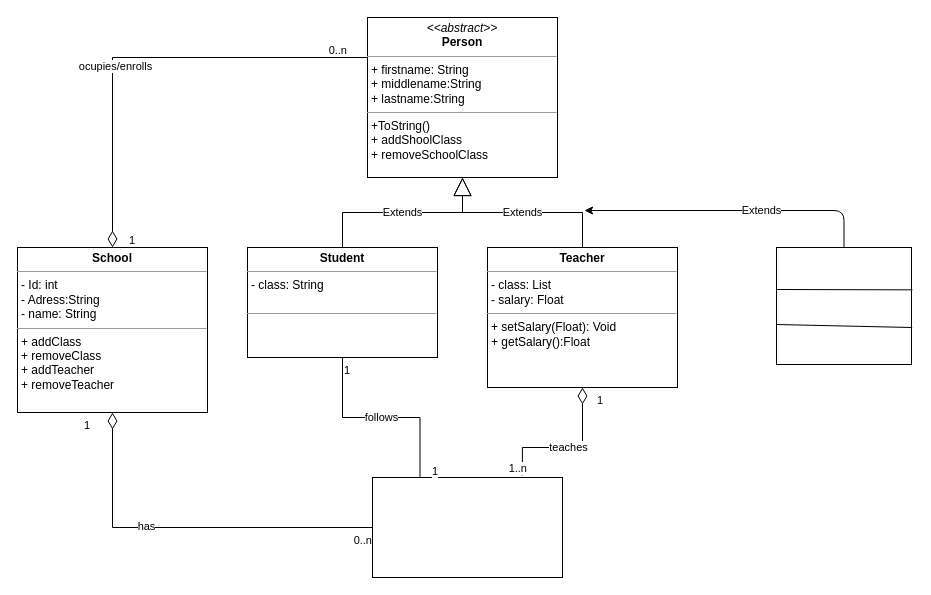
This 931x595 diagram has some shape labels left out. Here are the shapes that lost their labels. From the top down, the box of each, then its label:
(776, 246, 912, 364): Manager schoolclass array Teacher array +addteacher +removeteacher
(372, 476, 562, 578): Class - Id int - name: String
